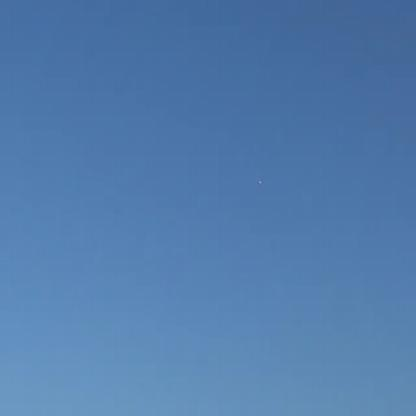CIV_Plane: (256, 178, 265, 186)
